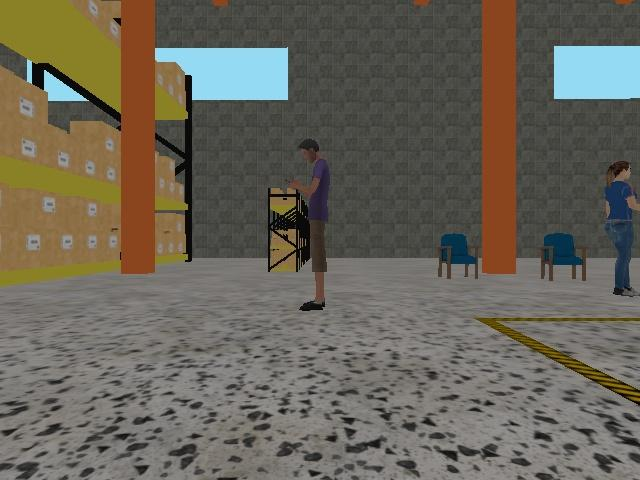chair: (538, 232, 590, 283), (436, 232, 484, 280)
person: (286, 136, 334, 313), (602, 159, 640, 299)
